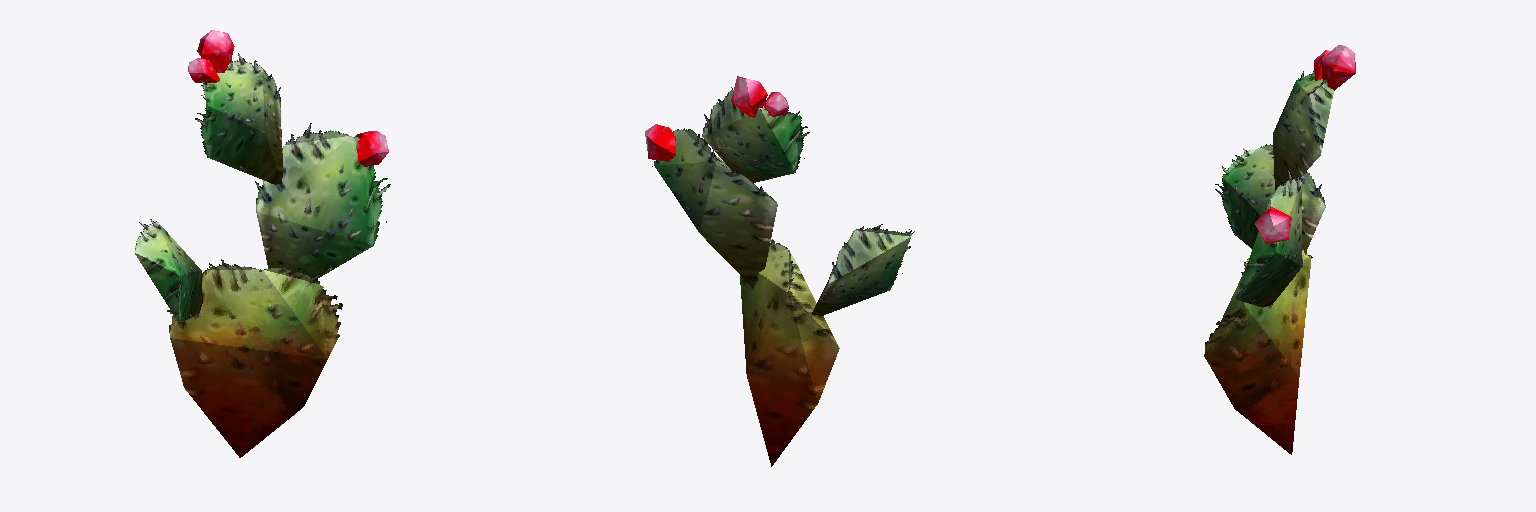
3 renders of one model, left to right at view 1: azimuth 30°, elevation 25°; view 2: azimuth 150°, elevation 25°; view 3: azimuth 270°, elevation 25°, orthographic.
Visible parts, largest first — view 1: CactusApple01; view 2: CactusApple01; view 3: CactusApple01.
Part boxes in pixels (left/top/right/bottom): CactusApple01: left=134, top=30, right=390, bottom=457; CactusApple01: left=645, top=76, right=914, bottom=466; CactusApple01: left=1204, top=45, right=1355, bottom=454.
Bounding box in the file's own units: 1.86 × 2.75 × 0.9209.
1 materials, 1 textured.